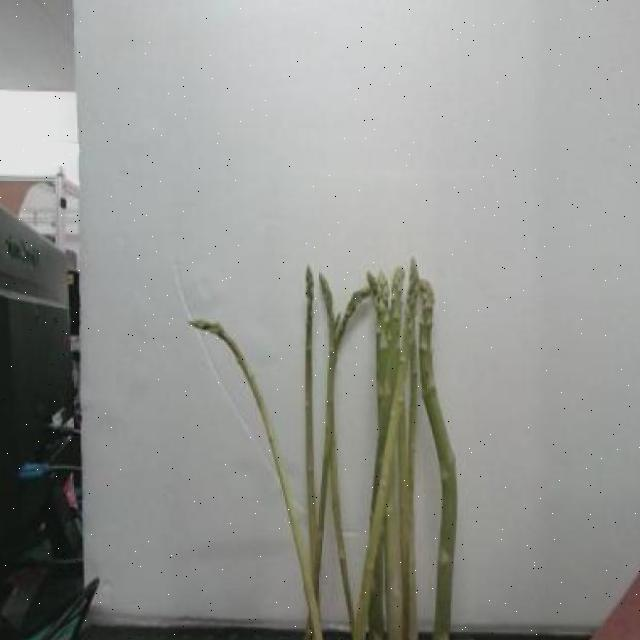aspargus: (418, 273, 460, 640)
